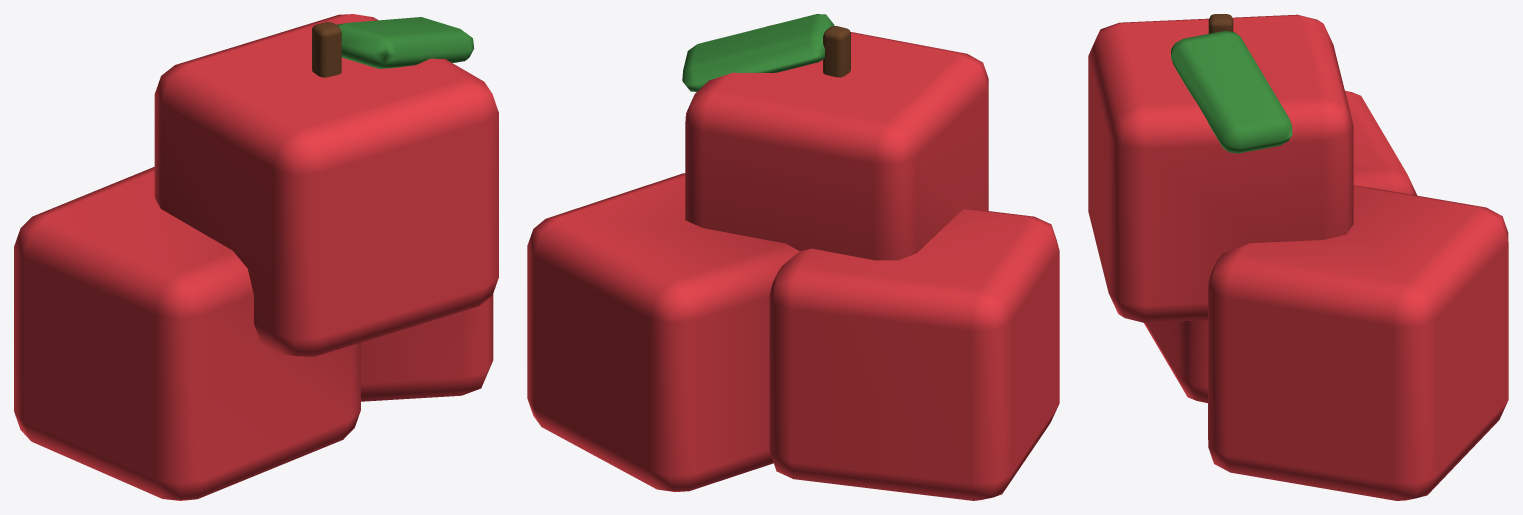
File: Nature__apples.glb
3 views of the same model, side by side, from view 1: azimuth 30°, elevation 25°; view 2: azimuth 150°, elevation 25°; view 3: azimuth 270°, elevation 25° (orthographic). The views are drawn at different scales.
Visible parts, largest first — view 1: apples_mesh; view 2: apples_mesh; view 3: apples_mesh.
Part boxes in pixels (x1,y1,x2,y2): apples_mesh: (14,14,498,500); apples_mesh: (527,14,1059,500); apples_mesh: (1088,14,1508,500).
Size of the model in its own units: 0.3425 by 0.2821 by 0.2754.
